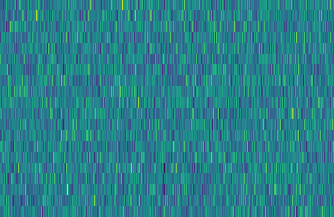signal: (108, 0, 125, 217)
